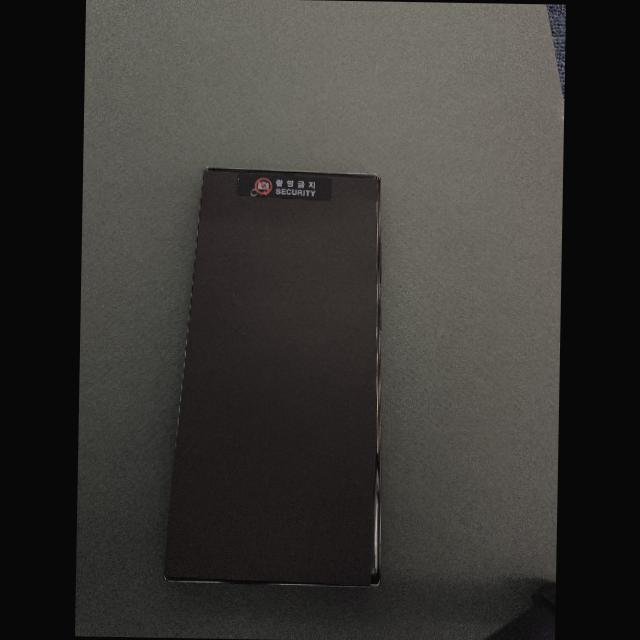phone: (164, 168, 380, 586)
sticker: (236, 170, 332, 200)
